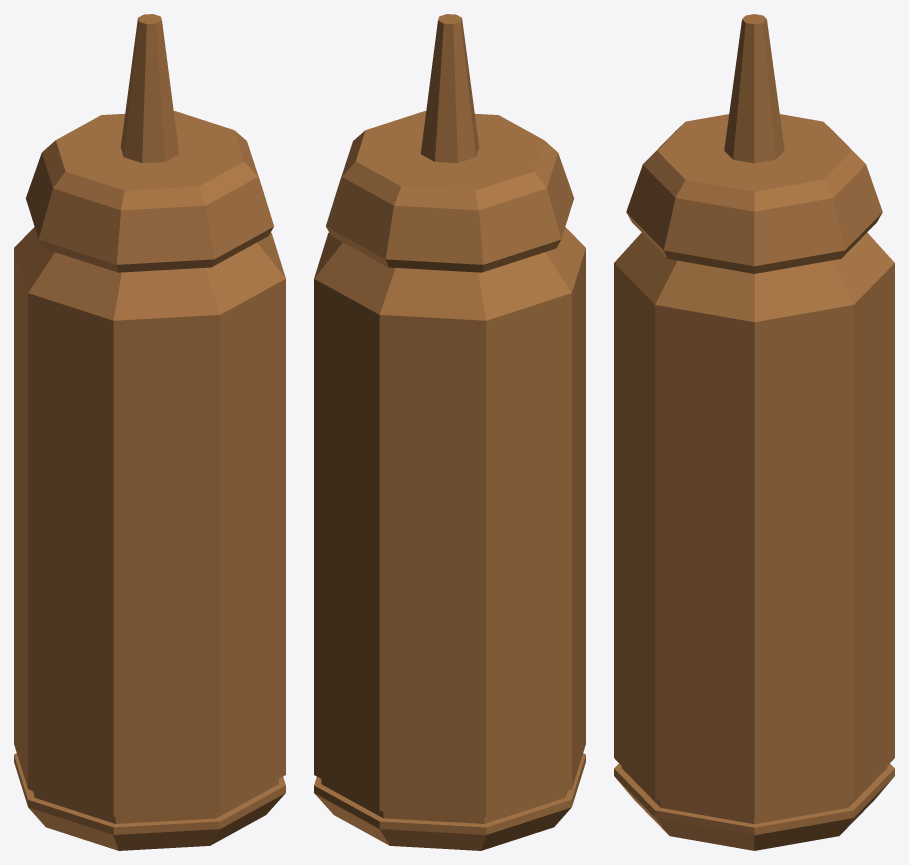
The model's file is cc0-mustard-bottle-lod0.glb.
3 renders of one model, left to right at view 1: azimuth 30°, elevation 25°; view 2: azimuth 150°, elevation 25°; view 3: azimuth 270°, elevation 25°, orthographic.
Parts seen in each view (by area): view 1: part_0; view 2: part_0; view 3: part_0.
Boxes of the visible parts, x1,y1,x2,y2 form: part_0: [14, 14, 285, 850]; part_0: [314, 14, 585, 850]; part_0: [614, 14, 894, 850].
Bounding box in the file's own units: 0.4996 × 1.53 × 0.4996.
